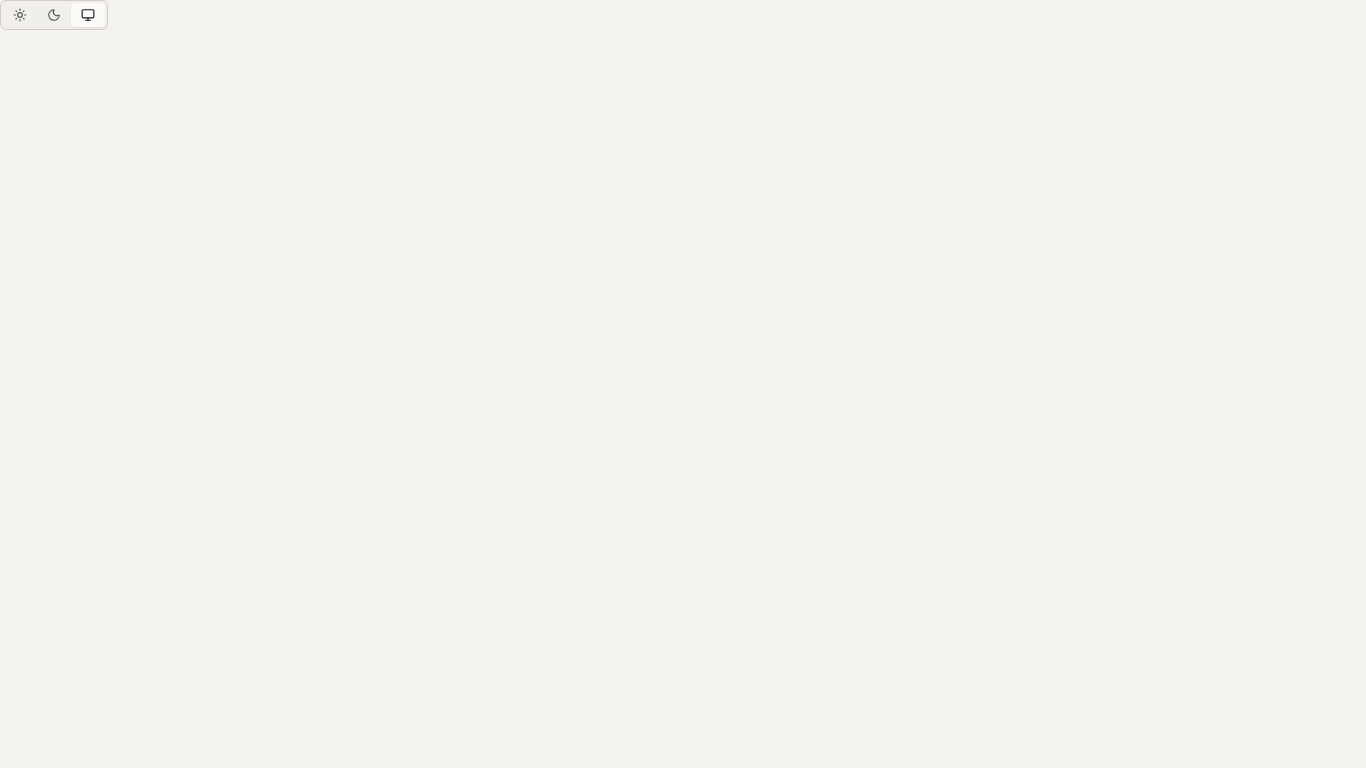
Test: theme toggle › applies and persists the chosen mode, and a new session reads it back
The width and height of the screenshot is (1366, 768).
Later steps or results of the test are not shown.
Click the radio button named "Dark theme" at (54, 15), box [37,3,71,27]
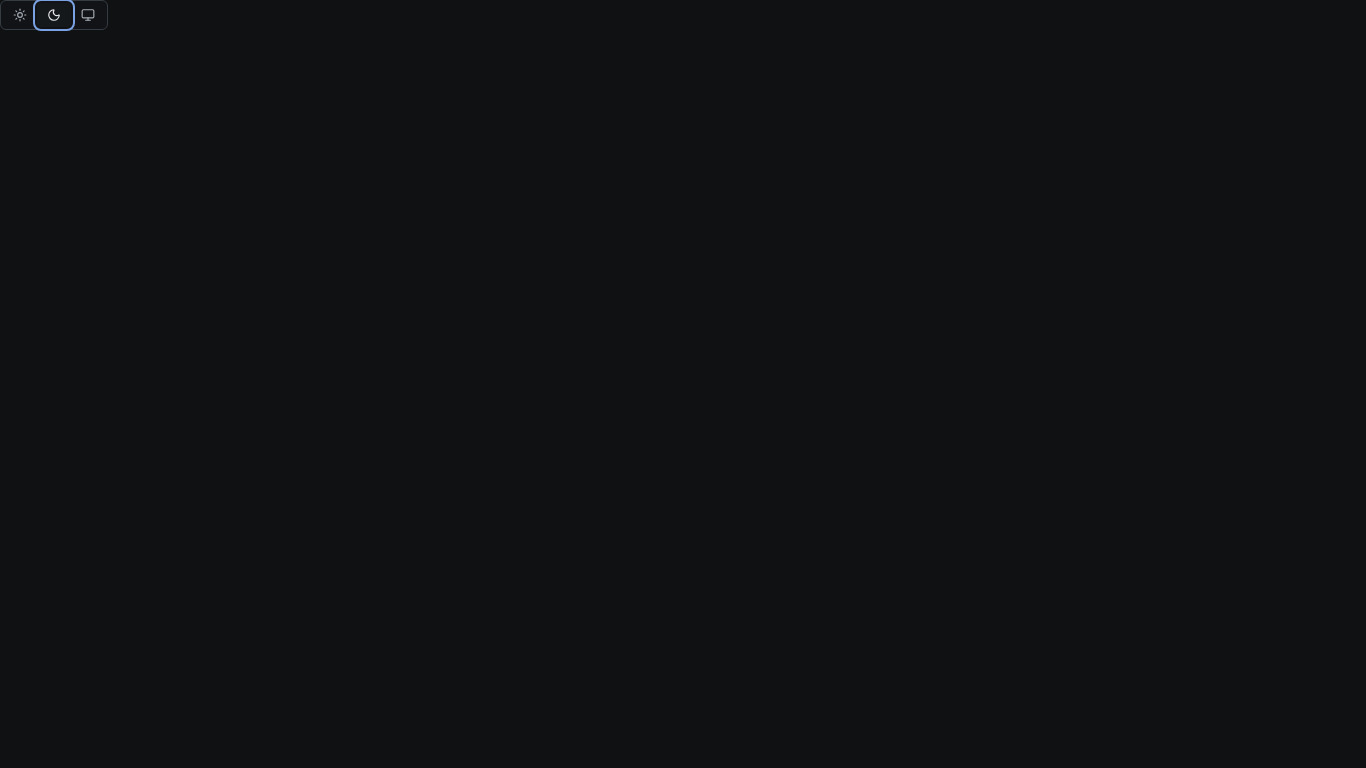
expect the radio button named "Dark theme" is checked: met, box [37,3,71,27]
